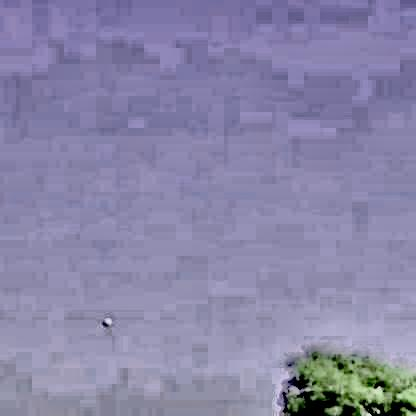golfball: (99, 314, 109, 325)
